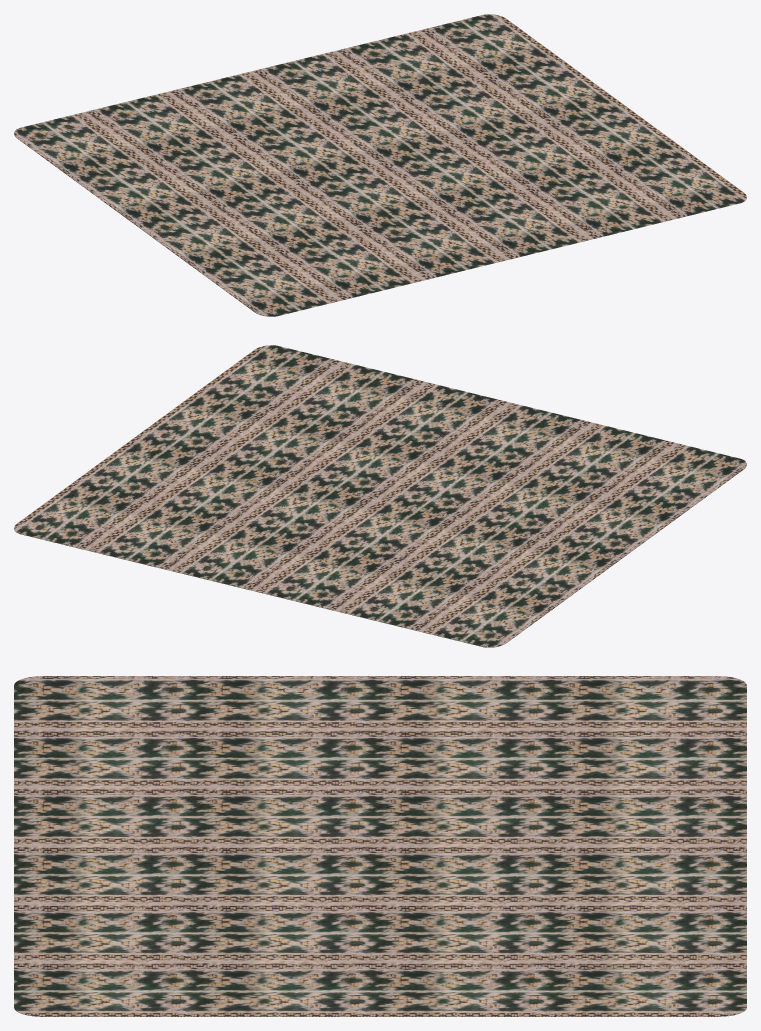
The model's file is Carpet.glb.
3 renders of one model, top to bottom at view 1: azimuth 30°, elevation 25°; view 2: azimuth 150°, elevation 25°; view 3: azimuth 270°, elevation 25°, orthographic. The views are drawn at different scales.
Parts seen in each view (by area): view 1: Carpet; view 2: Carpet; view 3: Carpet.
Part boxes in pixels (<box>): Carpet: <box>14,14,746,316</box>; Carpet: <box>14,345,746,647</box>; Carpet: <box>14,676,746,1016</box>.
Bounding box in the file's own units: 2.13 × 0.00117 × 1.94.
1 material, 1 textured.
